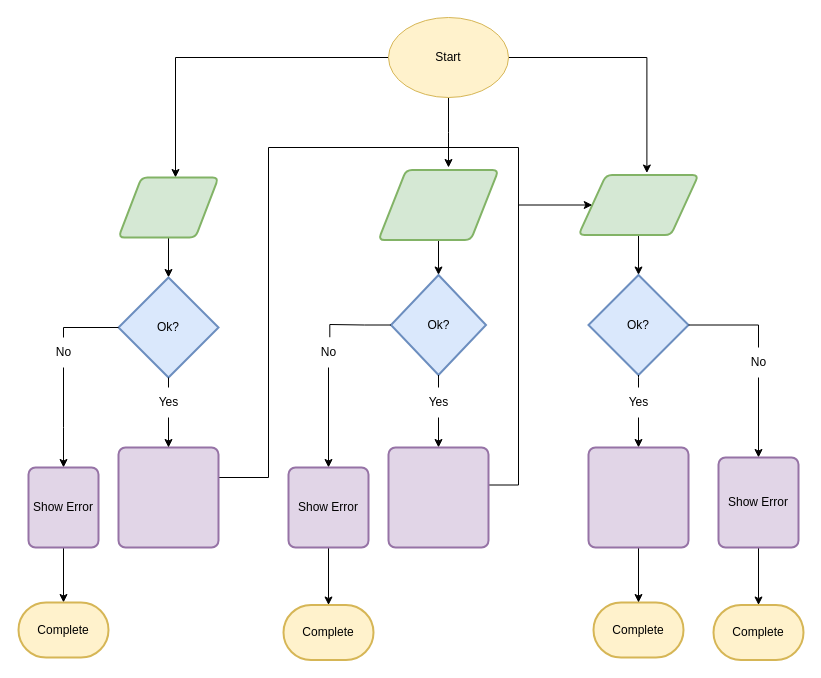
Image size: 821x678. Some labels were removed from this diagram. Here are the shapes that lost their labels. From the top down, the box of each, then its label:
(117, 176, 219, 238): User Realm Selection
(377, 168, 499, 240): User Book Selection
(577, 174, 699, 236): User Character Selection
(117, 446, 219, 548): Chosen realm filters available characters
(387, 446, 489, 548): Chosen book filters available characters
(587, 446, 689, 548): Show quotes from selected character
